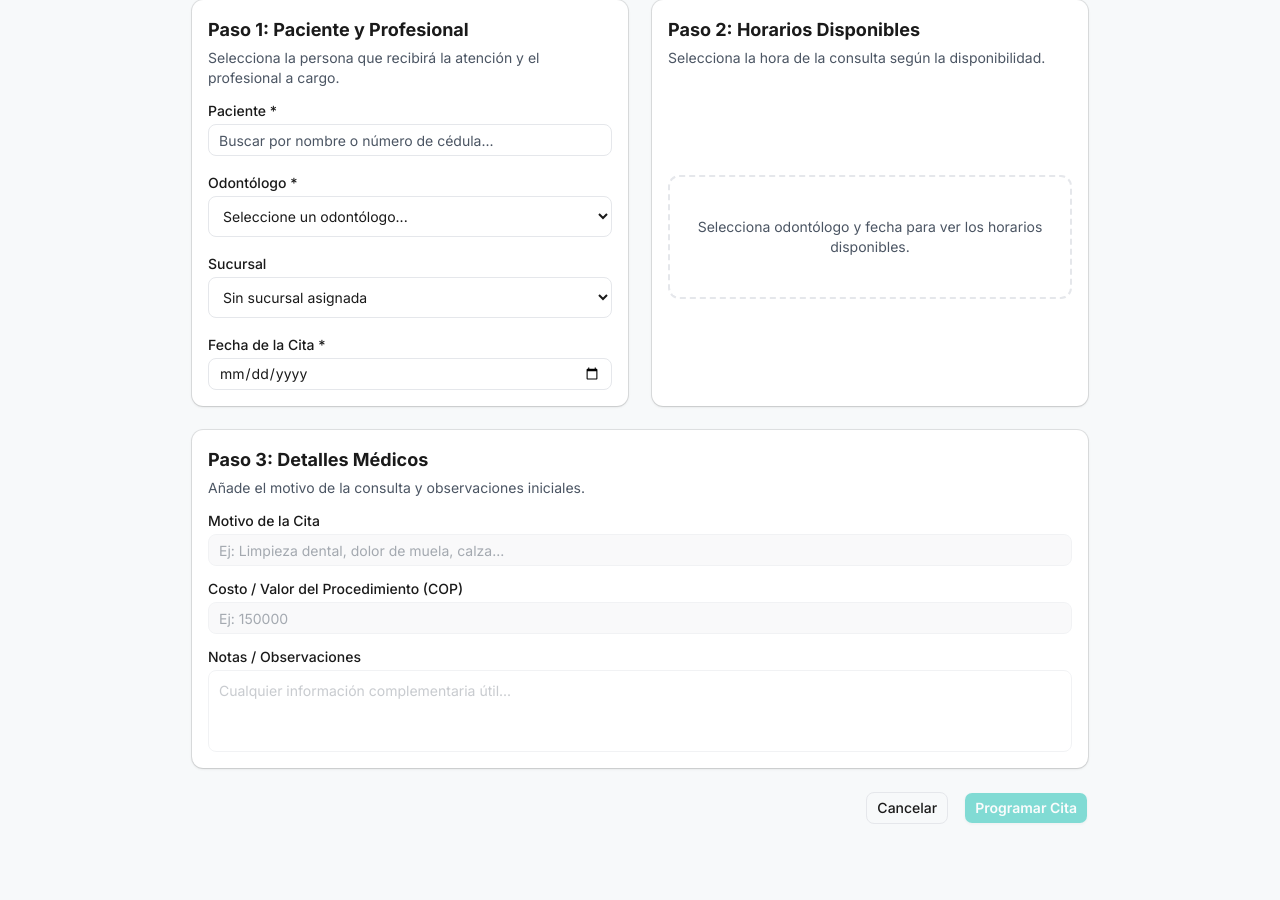
AppointmentForm Component › 3. should keep the save button disabled until patient, dentist, date, and slot are selected
This screenshot has width=1280, height=900.
Expected: the button "Programar Cita" is disabled, x1=964 y1=792 x2=1088 y2=824
Note: Fill Patient
Step 1. Type "Juan" into the field with placeholder "Buscar por nombre o número de cédula..." → (410, 140), box x1=208 y1=124 x2=612 y2=156
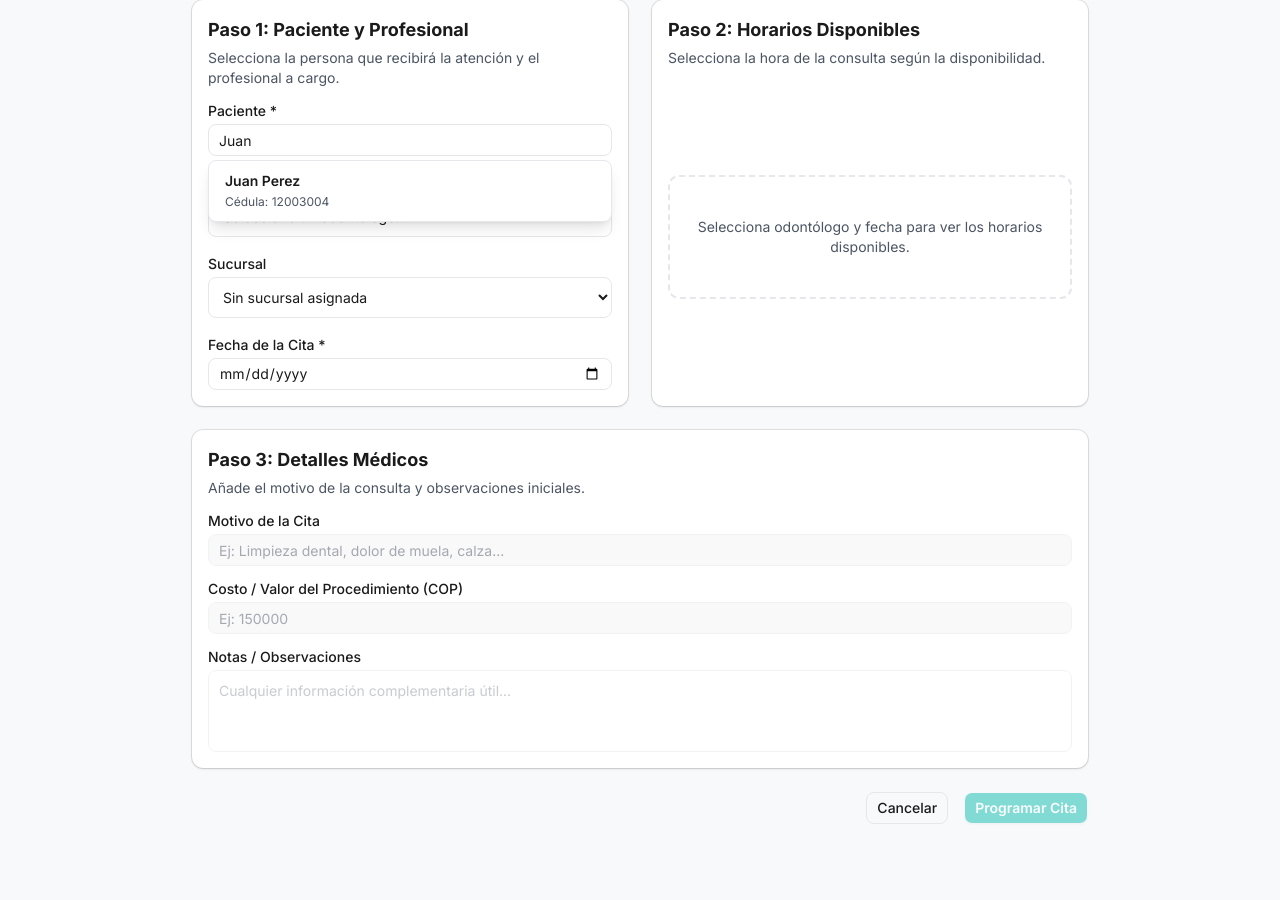
Step 2. Click the text "Juan Perez" → click(263, 180), box x1=225 y1=172 x2=300 y2=189
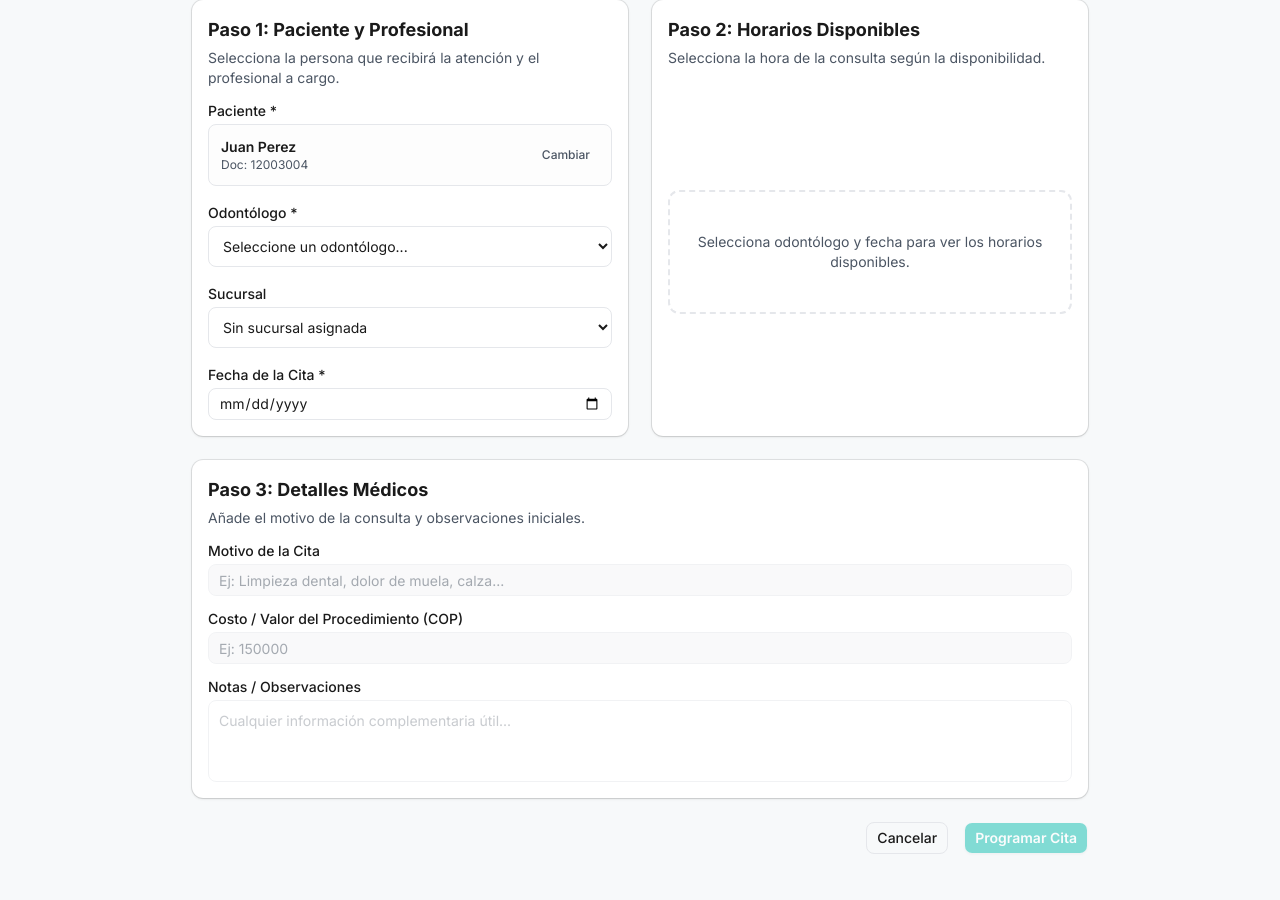
Expected: the button "Programar Cita" is disabled, x1=964 y1=822 x2=1088 y2=854
Note: Fill Dentist
Step 3. Select "Dr. House" in the dropdown labelled "Odontólogo *" → (410, 246), box x1=208 y1=226 x2=612 y2=267
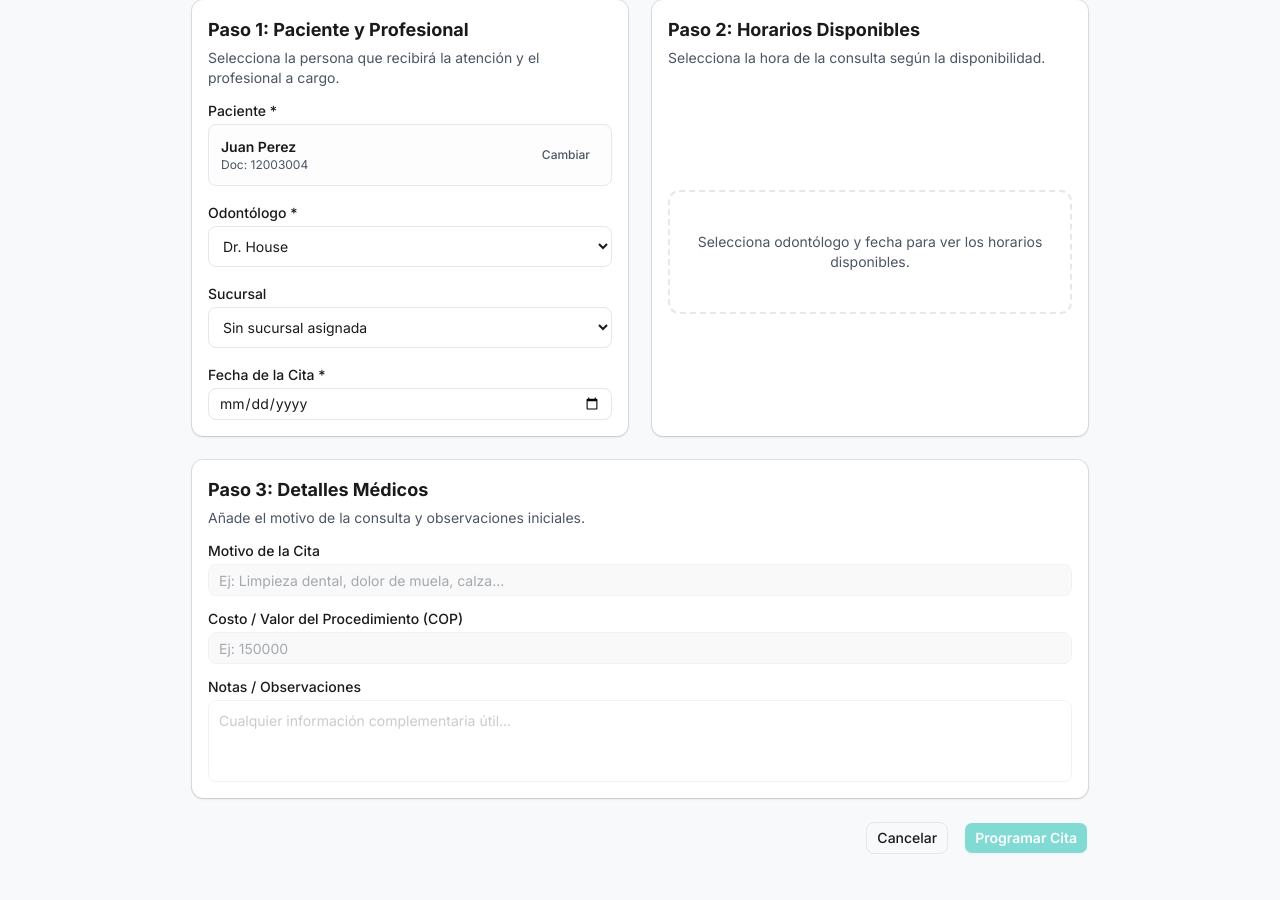
Expected: the button "Programar Cita" is disabled, x1=964 y1=822 x2=1088 y2=854
Note: Fill Date
Step 4. Type "2026-07-06" into the date field labelled "Fecha de la Cita *" → (410, 404), box x1=208 y1=388 x2=612 y2=420
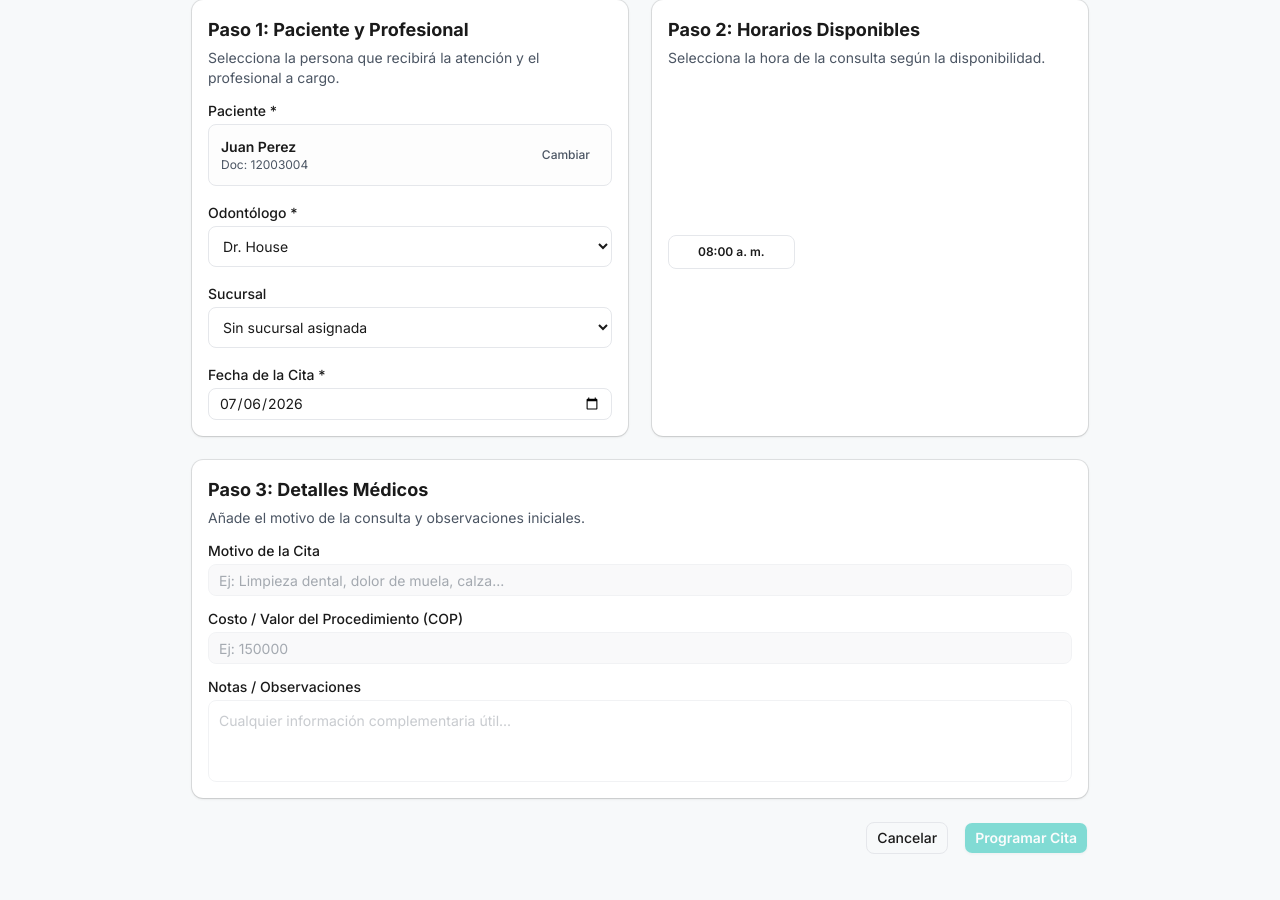
Expected: the button "Programar Cita" is disabled, x1=964 y1=822 x2=1088 y2=854
Expected: the button "08:00 a. m." is shown
Step 5. Click the button "08:00 a. m." → click(731, 252), box x1=668 y1=235 x2=795 y2=269
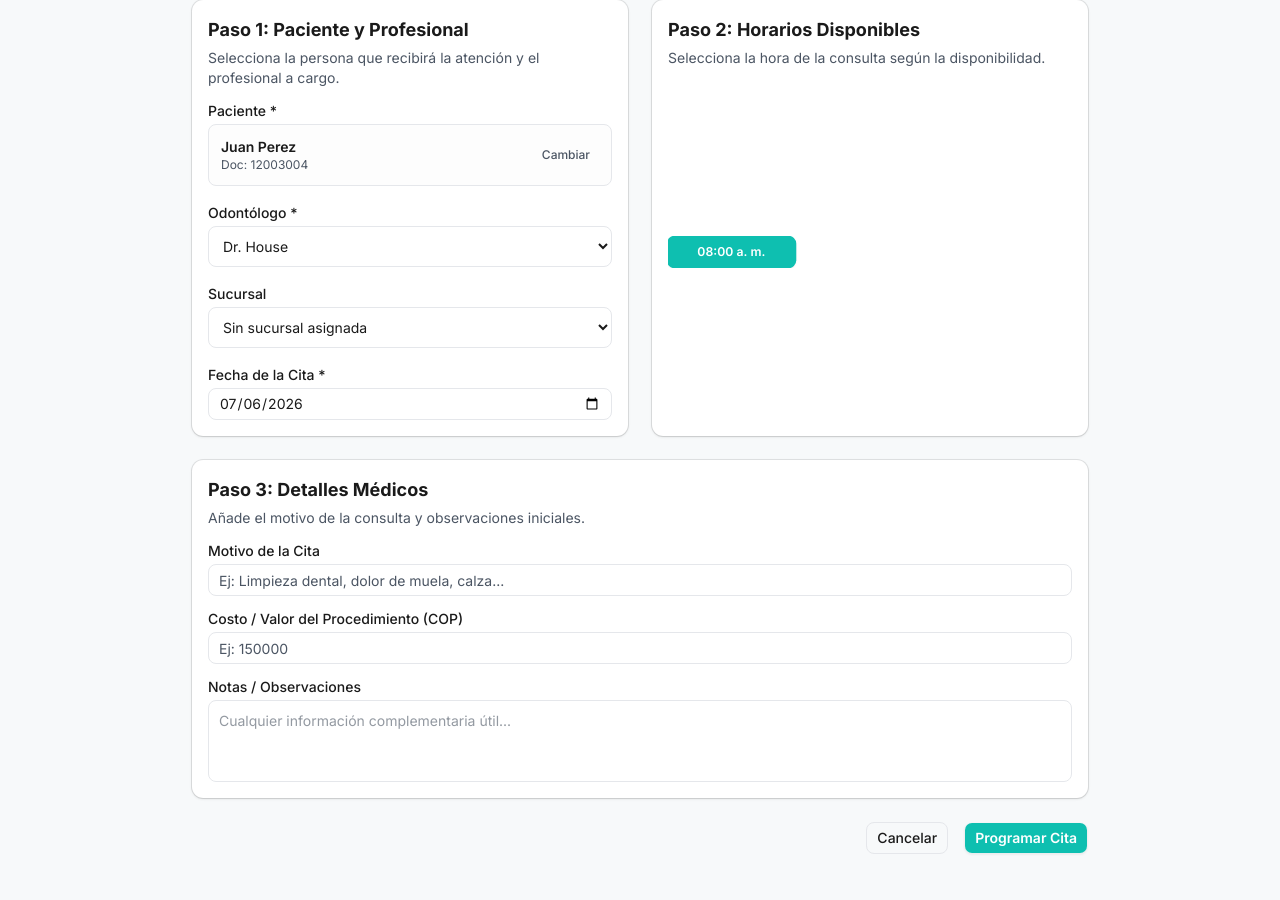
Expected: the button "Programar Cita" is enabled, x1=964 y1=822 x2=1088 y2=854
